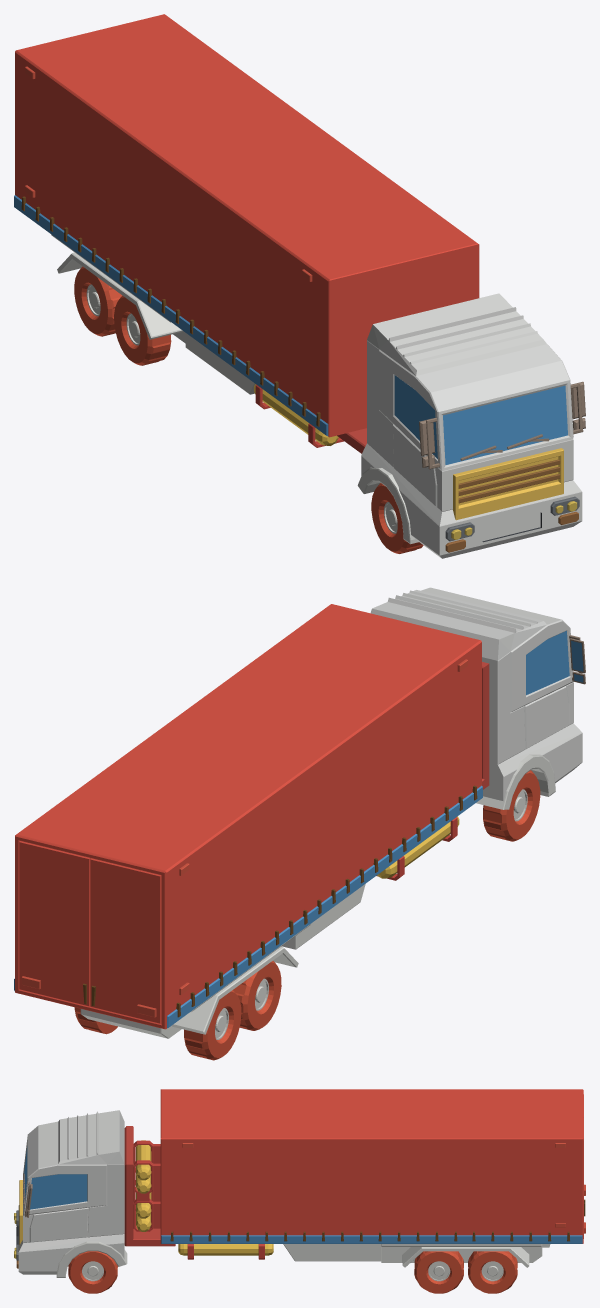
The model's file is truck_a01.gltf.
3 renders of one model, top to bottom at view 1: azimuth 30°, elevation 25°; view 2: azimuth 150°, elevation 25°; view 3: azimuth 270°, elevation 25°, orthographic. The views are drawn at different scales.
Visible parts, largest first — view 1: body, wheel_0, wheel_4, wheel_8; view 2: body, wheel_4, wheel_0, wheel_8; view 3: body, wheel_10, wheel_6, wheel_2.
Boxes of the visible parts, x1=… form: body: x1=14, y1=14, x2=585, y2=558; wheel_0: x1=74, y1=268, x2=107, y2=334; wheel_4: x1=114, y1=297, x2=147, y2=363; wheel_8: x1=371, y1=485, x2=404, y2=551; body: x1=14, y1=587, x2=585, y2=1060; wheel_4: x1=247, y1=962, x2=281, y2=1028; wheel_0: x1=207, y1=991, x2=241, y2=1057; wheel_8: x1=506, y1=773, x2=540, y2=839; body: x1=14, y1=1089, x2=585, y2=1293; wheel_10: x1=70, y1=1252, x2=115, y2=1292; wheel_6: x1=416, y1=1252, x2=461, y2=1292; wheel_2: x1=470, y1=1252, x2=515, y2=1292.
Size of the model in its own units: 3.29 by 4.55 by 14.76.
Materials: 1 (1 with a texture image).
